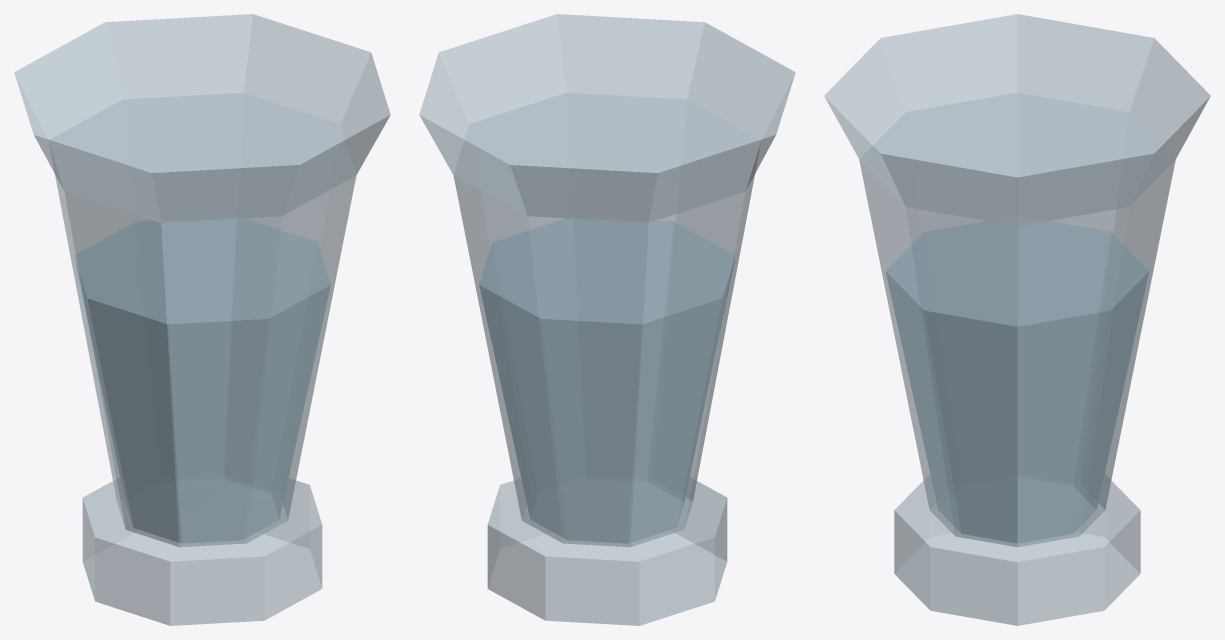
File: crystal_vase.glb
The picture shows the model from 3 angles, left to right: view 1: azimuth 30°, elevation 25°; view 2: azimuth 150°, elevation 25°; view 3: azimuth 270°, elevation 25°; orthographic projection.
Visible parts, largest first — view 1: crystal_vase; view 2: crystal_vase; view 3: crystal_vase.
Part boxes in pixels (left/top/right/bottom): crystal_vase: left=14, top=14, right=390, bottom=625; crystal_vase: left=419, top=14, right=795, bottom=625; crystal_vase: left=824, top=14, right=1210, bottom=625.
Bounding box in the file's own units: 0.22 × 0.3 × 0.22.
